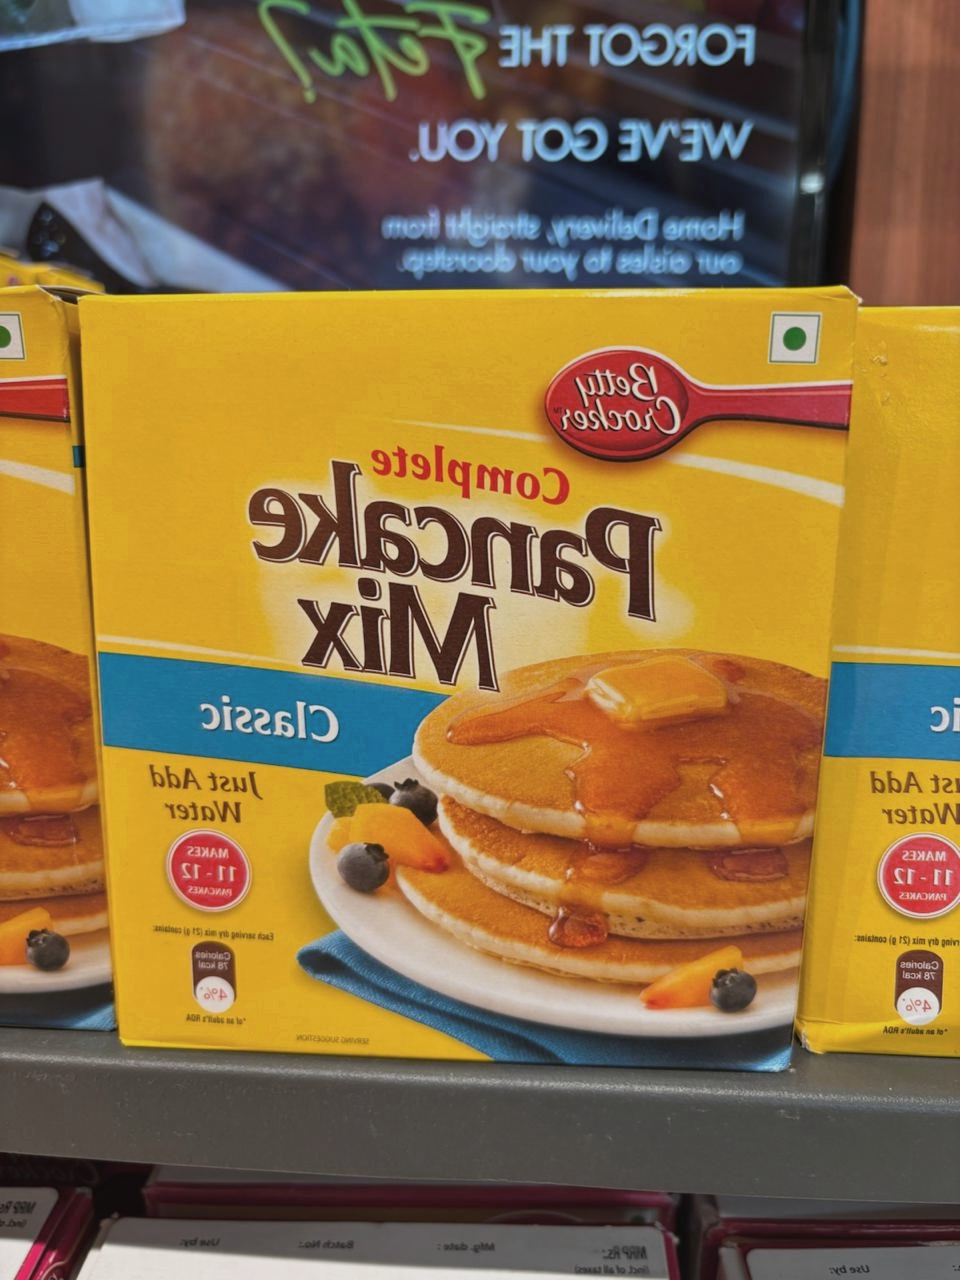Betty Crocker Pancake Mix: (108, 275, 865, 1057)
